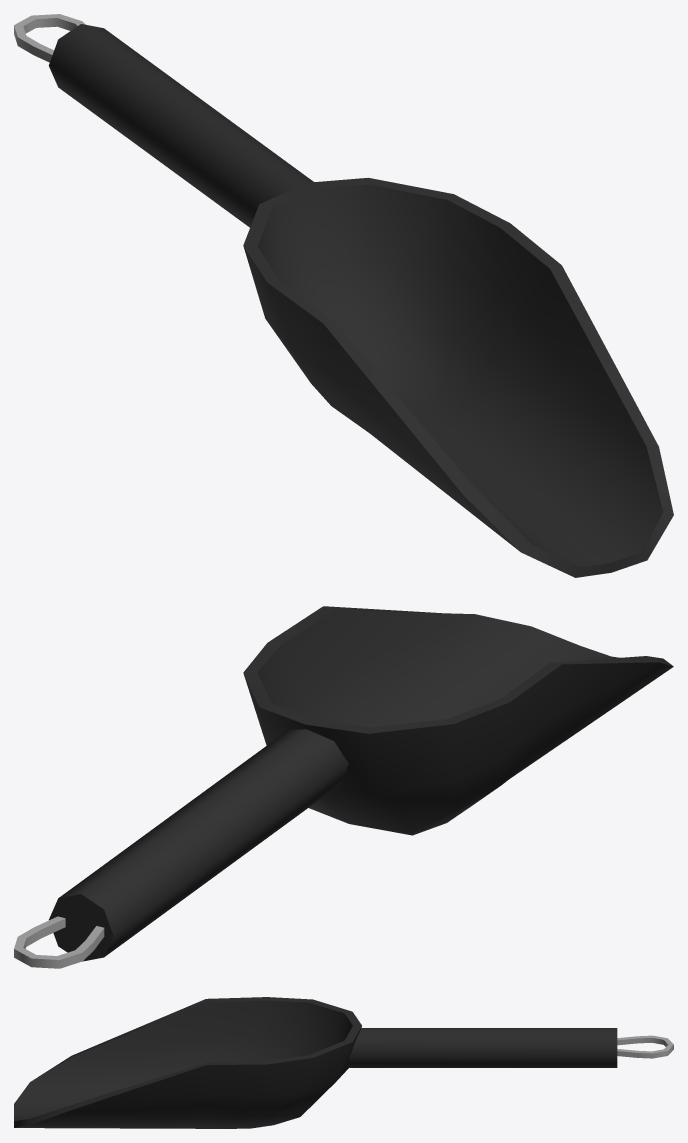
The model's file is Scooper_01.fbx.
3 views of the same model, one above another, from view 1: azimuth 30°, elevation 25°; view 2: azimuth 150°, elevation 25°; view 3: azimuth 270°, elevation 25° (orthographic). The views are drawn at different scales.
Parts seen in each view (by area): view 1: Scooper_01; view 2: Scooper_01; view 3: Scooper_01.
Part boxes in pixels (box(x1,y1,x2,y2)): Scooper_01: box(14, 14, 673, 577); Scooper_01: box(14, 606, 673, 968); Scooper_01: box(14, 997, 673, 1128).
Bounding box in the file's own units: 0.0823 × 0.0537 × 0.3404.
